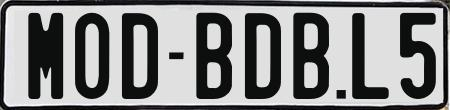0: (74, 10, 113, 97)
5: (398, 10, 435, 102)
B: (193, 12, 233, 102), (291, 13, 327, 100)
D: (122, 11, 162, 102), (245, 13, 281, 99)
L: (350, 12, 390, 99)
M: (25, 13, 62, 102)
